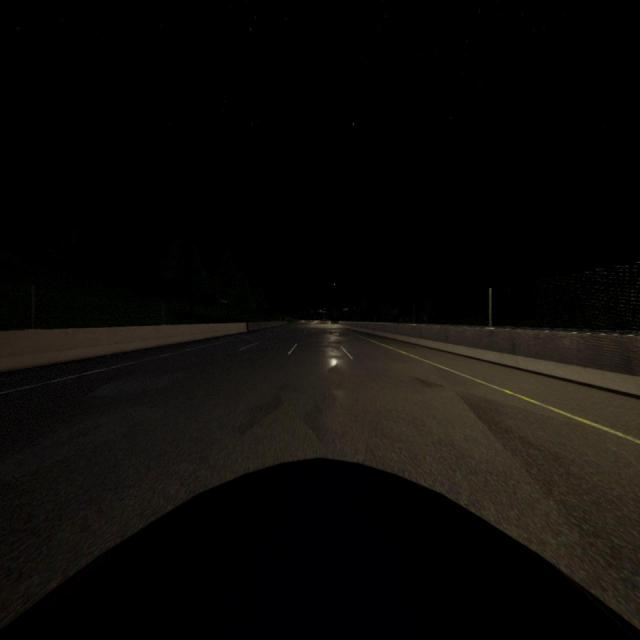Vehicle: (1, 454, 640, 640)
